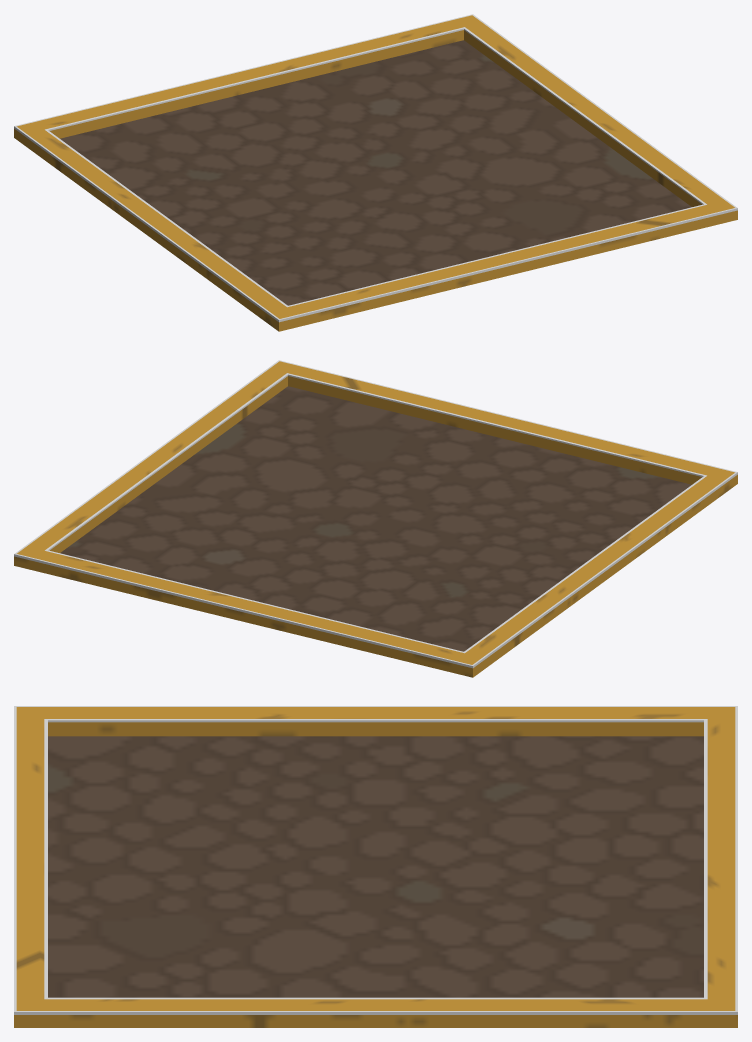
The model's file is TierraSquare.fbx.
The picture shows the model from 3 angles, top to bottom: view 1: azimuth 30°, elevation 25°; view 2: azimuth 150°, elevation 25°; view 3: azimuth 270°, elevation 25°; orthographic projection. The views are drawn at different scales.
Parts seen in each view (by area): view 1: TierraSquare, BordilloTierraSquare; view 2: TierraSquare, BordilloTierraSquare; view 3: TierraSquare, BordilloTierraSquare.
Part boxes in pixels (left/top/right/bottom): TierraSquare: left=60, top=40, right=691, bottom=305; BordilloTierraSquare: left=14, top=14, right=737, bottom=331; TierraSquare: left=60, top=386, right=691, bottom=651; BordilloTierraSquare: left=14, top=360, right=737, bottom=677; TierraSquare: left=48, top=736, right=703, bottom=997; BordilloTierraSquare: left=14, top=706, right=737, bottom=1027.
Size of the model in its own units: 2 by 0.0484 by 2.
Materials: 3 (2 with a texture image).
